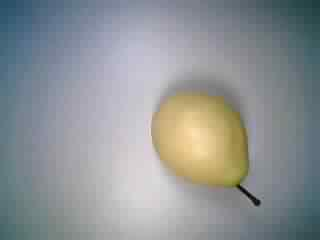pear: (134, 83, 273, 211)
